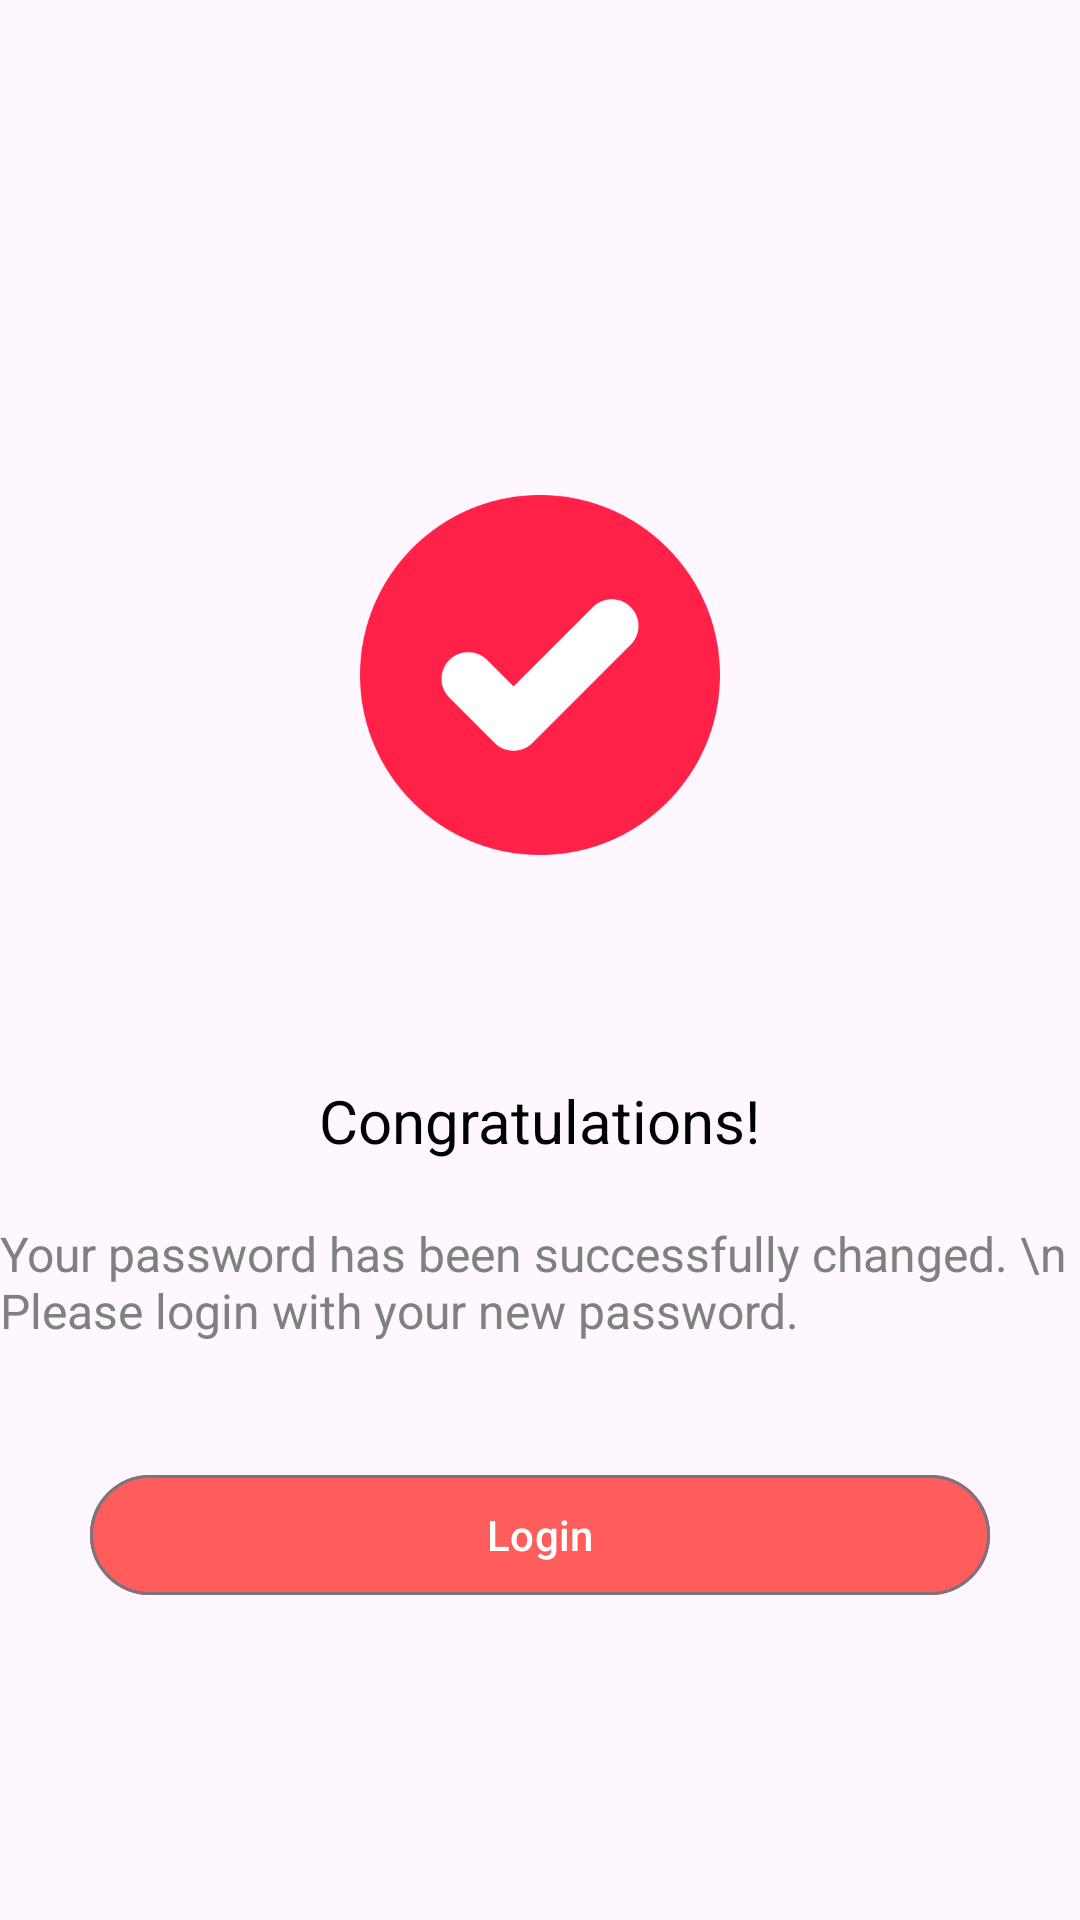

Icons on this 1080 × 1920 Android screen, each with the point to tap as (x,y):
check: (540,675)
